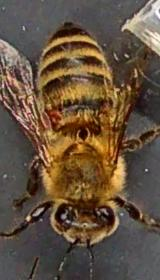varroa_mite: (43, 102, 65, 128)
